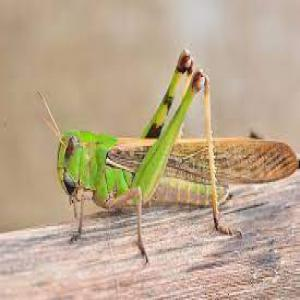locust: (26, 48, 289, 247)
